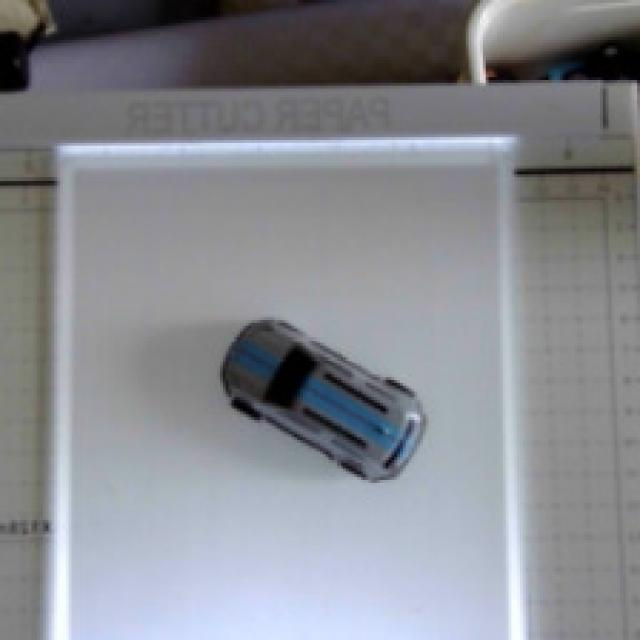Grey Car: (188, 274, 469, 513)
